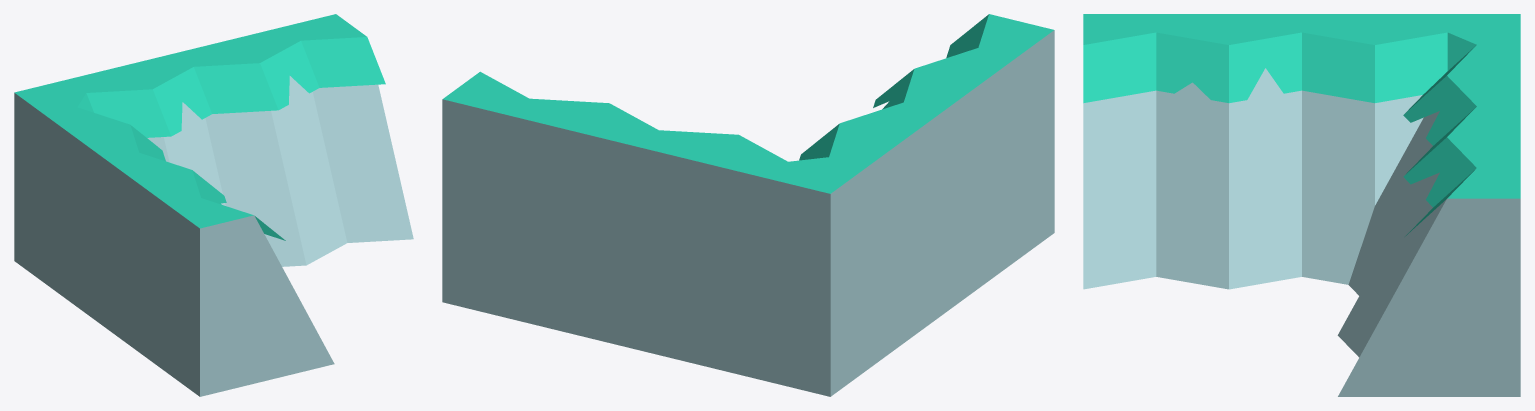
The model's file is cliff_halfCornerInner_stone.dae.
The picture shows the model from 3 angles, left to right: view 1: azimuth 30°, elevation 25°; view 2: azimuth 150°, elevation 25°; view 3: azimuth 270°, elevation 25°; orthographic projection. The views are drawn at different scales.
Visible parts, largest first — view 1: cliff_halfCornerInner_stone; view 2: cliff_halfCornerInner_stone; view 3: cliff_halfCornerInner_stone.
Part boxes in pixels (x1,y1,x2,y2): cliff_halfCornerInner_stone: (14,14,413,396); cliff_halfCornerInner_stone: (442,14,1054,396); cliff_halfCornerInner_stone: (1083,14,1520,396).
Bounding box in the file's own units: 1 × 0.5 × 1.
